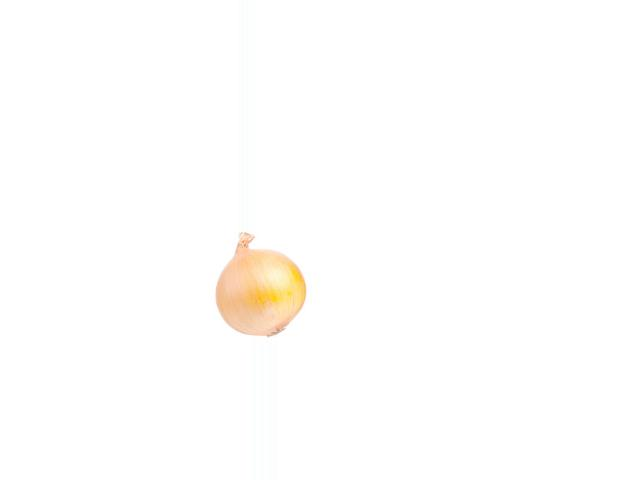onion: (213, 244, 307, 334)
